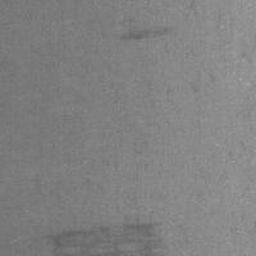Water spot: (41, 221, 168, 256), (116, 22, 170, 42)
